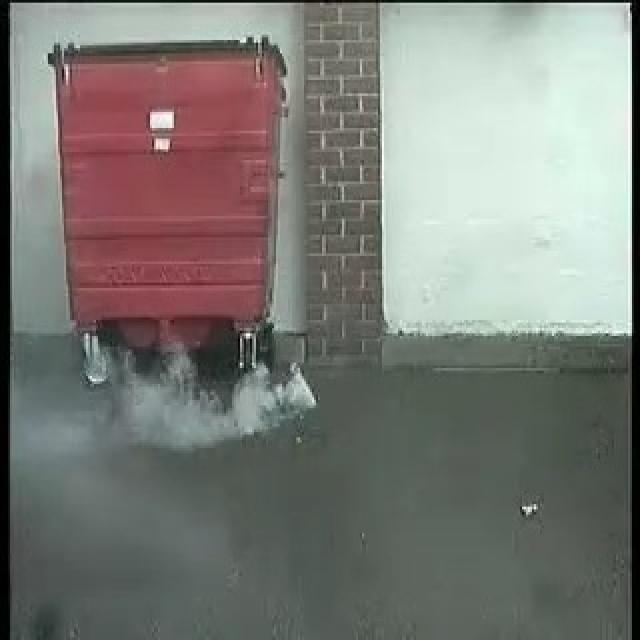smoke: (120, 365, 322, 446)
